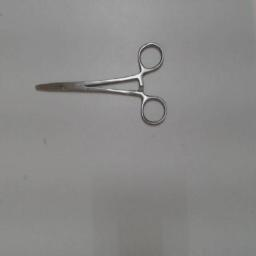Mayo Needle Holder: (26, 38, 170, 134)
